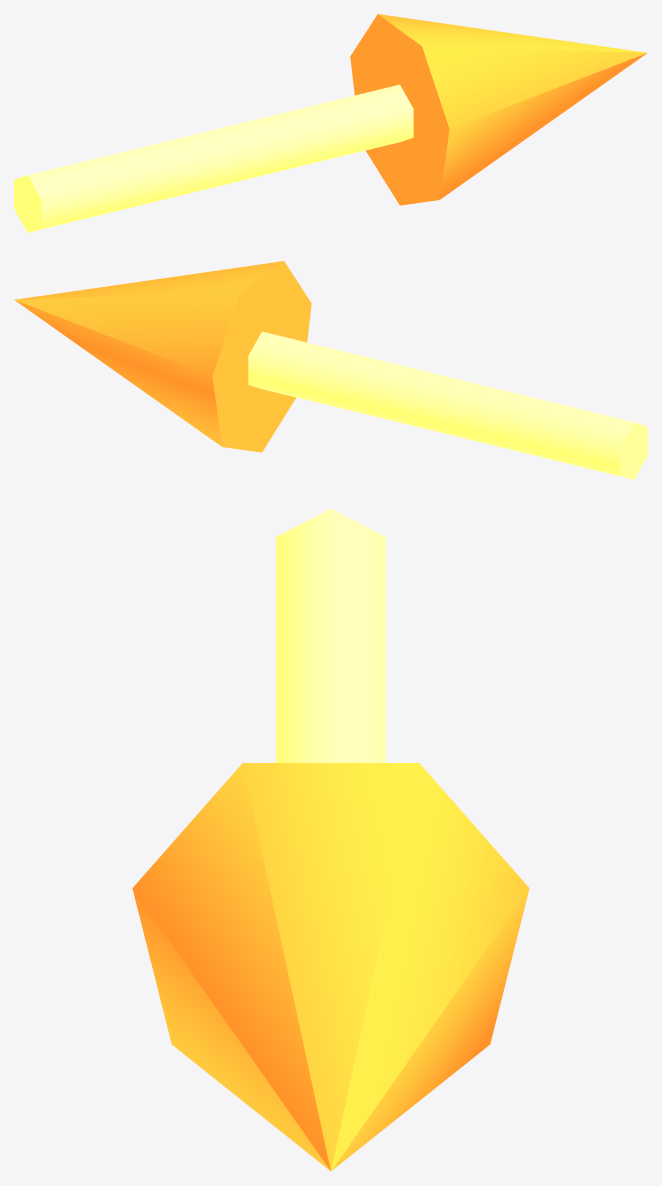
Rendered from arrow.glb.
3 renders of one model, top to bottom at view 1: azimuth 30°, elevation 25°; view 2: azimuth 150°, elevation 25°; view 3: azimuth 270°, elevation 25°, orthographic. The views are drawn at different scales.
Visible parts, largest first — view 1: Head, Shaft; view 2: Head, Shaft; view 3: Head, Shaft.
Part boxes in pixels (x1=…): Head: x1=350, y1=14, x2=647, y2=205; Shaft: x1=14, y1=84, x2=413, y2=232; Head: x1=14, y1=261, x2=311, y2=452; Shaft: x1=248, y1=331, x2=647, y2=479; Head: x1=132, y1=763, x2=529, y2=1170; Shaft: x1=276, y1=508, x2=385, y2=762.
Bounding box in the file's own units: 1.12 × 0.3042 × 0.312.
